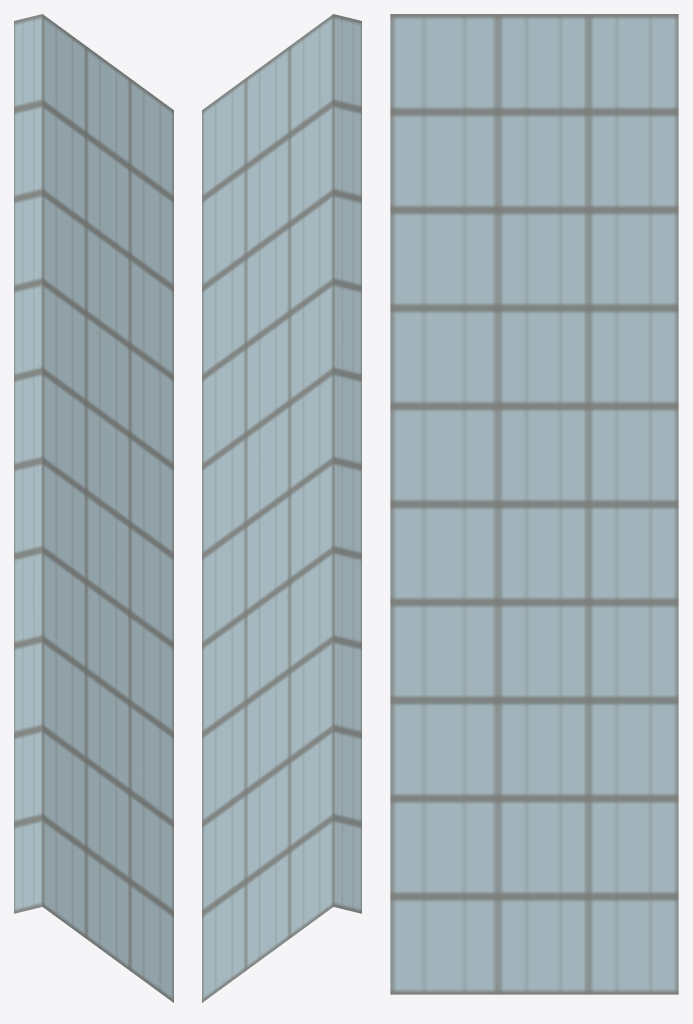
3 renders of one model, left to right at view 1: azimuth 30°, elevation 25°; view 2: azimuth 150°, elevation 25°; view 3: azimuth 270°, elevation 25°, orthographic. The views are drawn at different scales.
Size of the model in its own units: 1 by 30 by 8.
2 materials, 1 textured.
